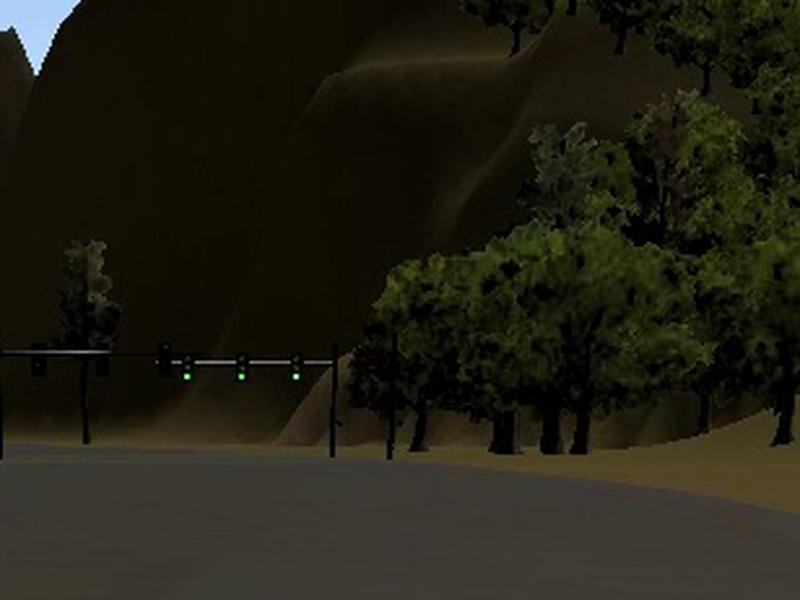Green: (290, 354, 303, 381), (236, 353, 247, 382), (183, 354, 194, 383)
